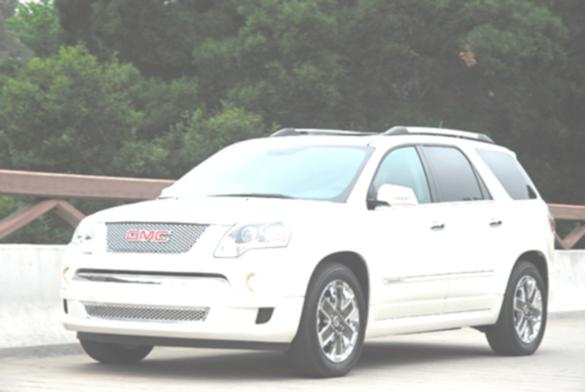GMC: (123, 226, 180, 249)
